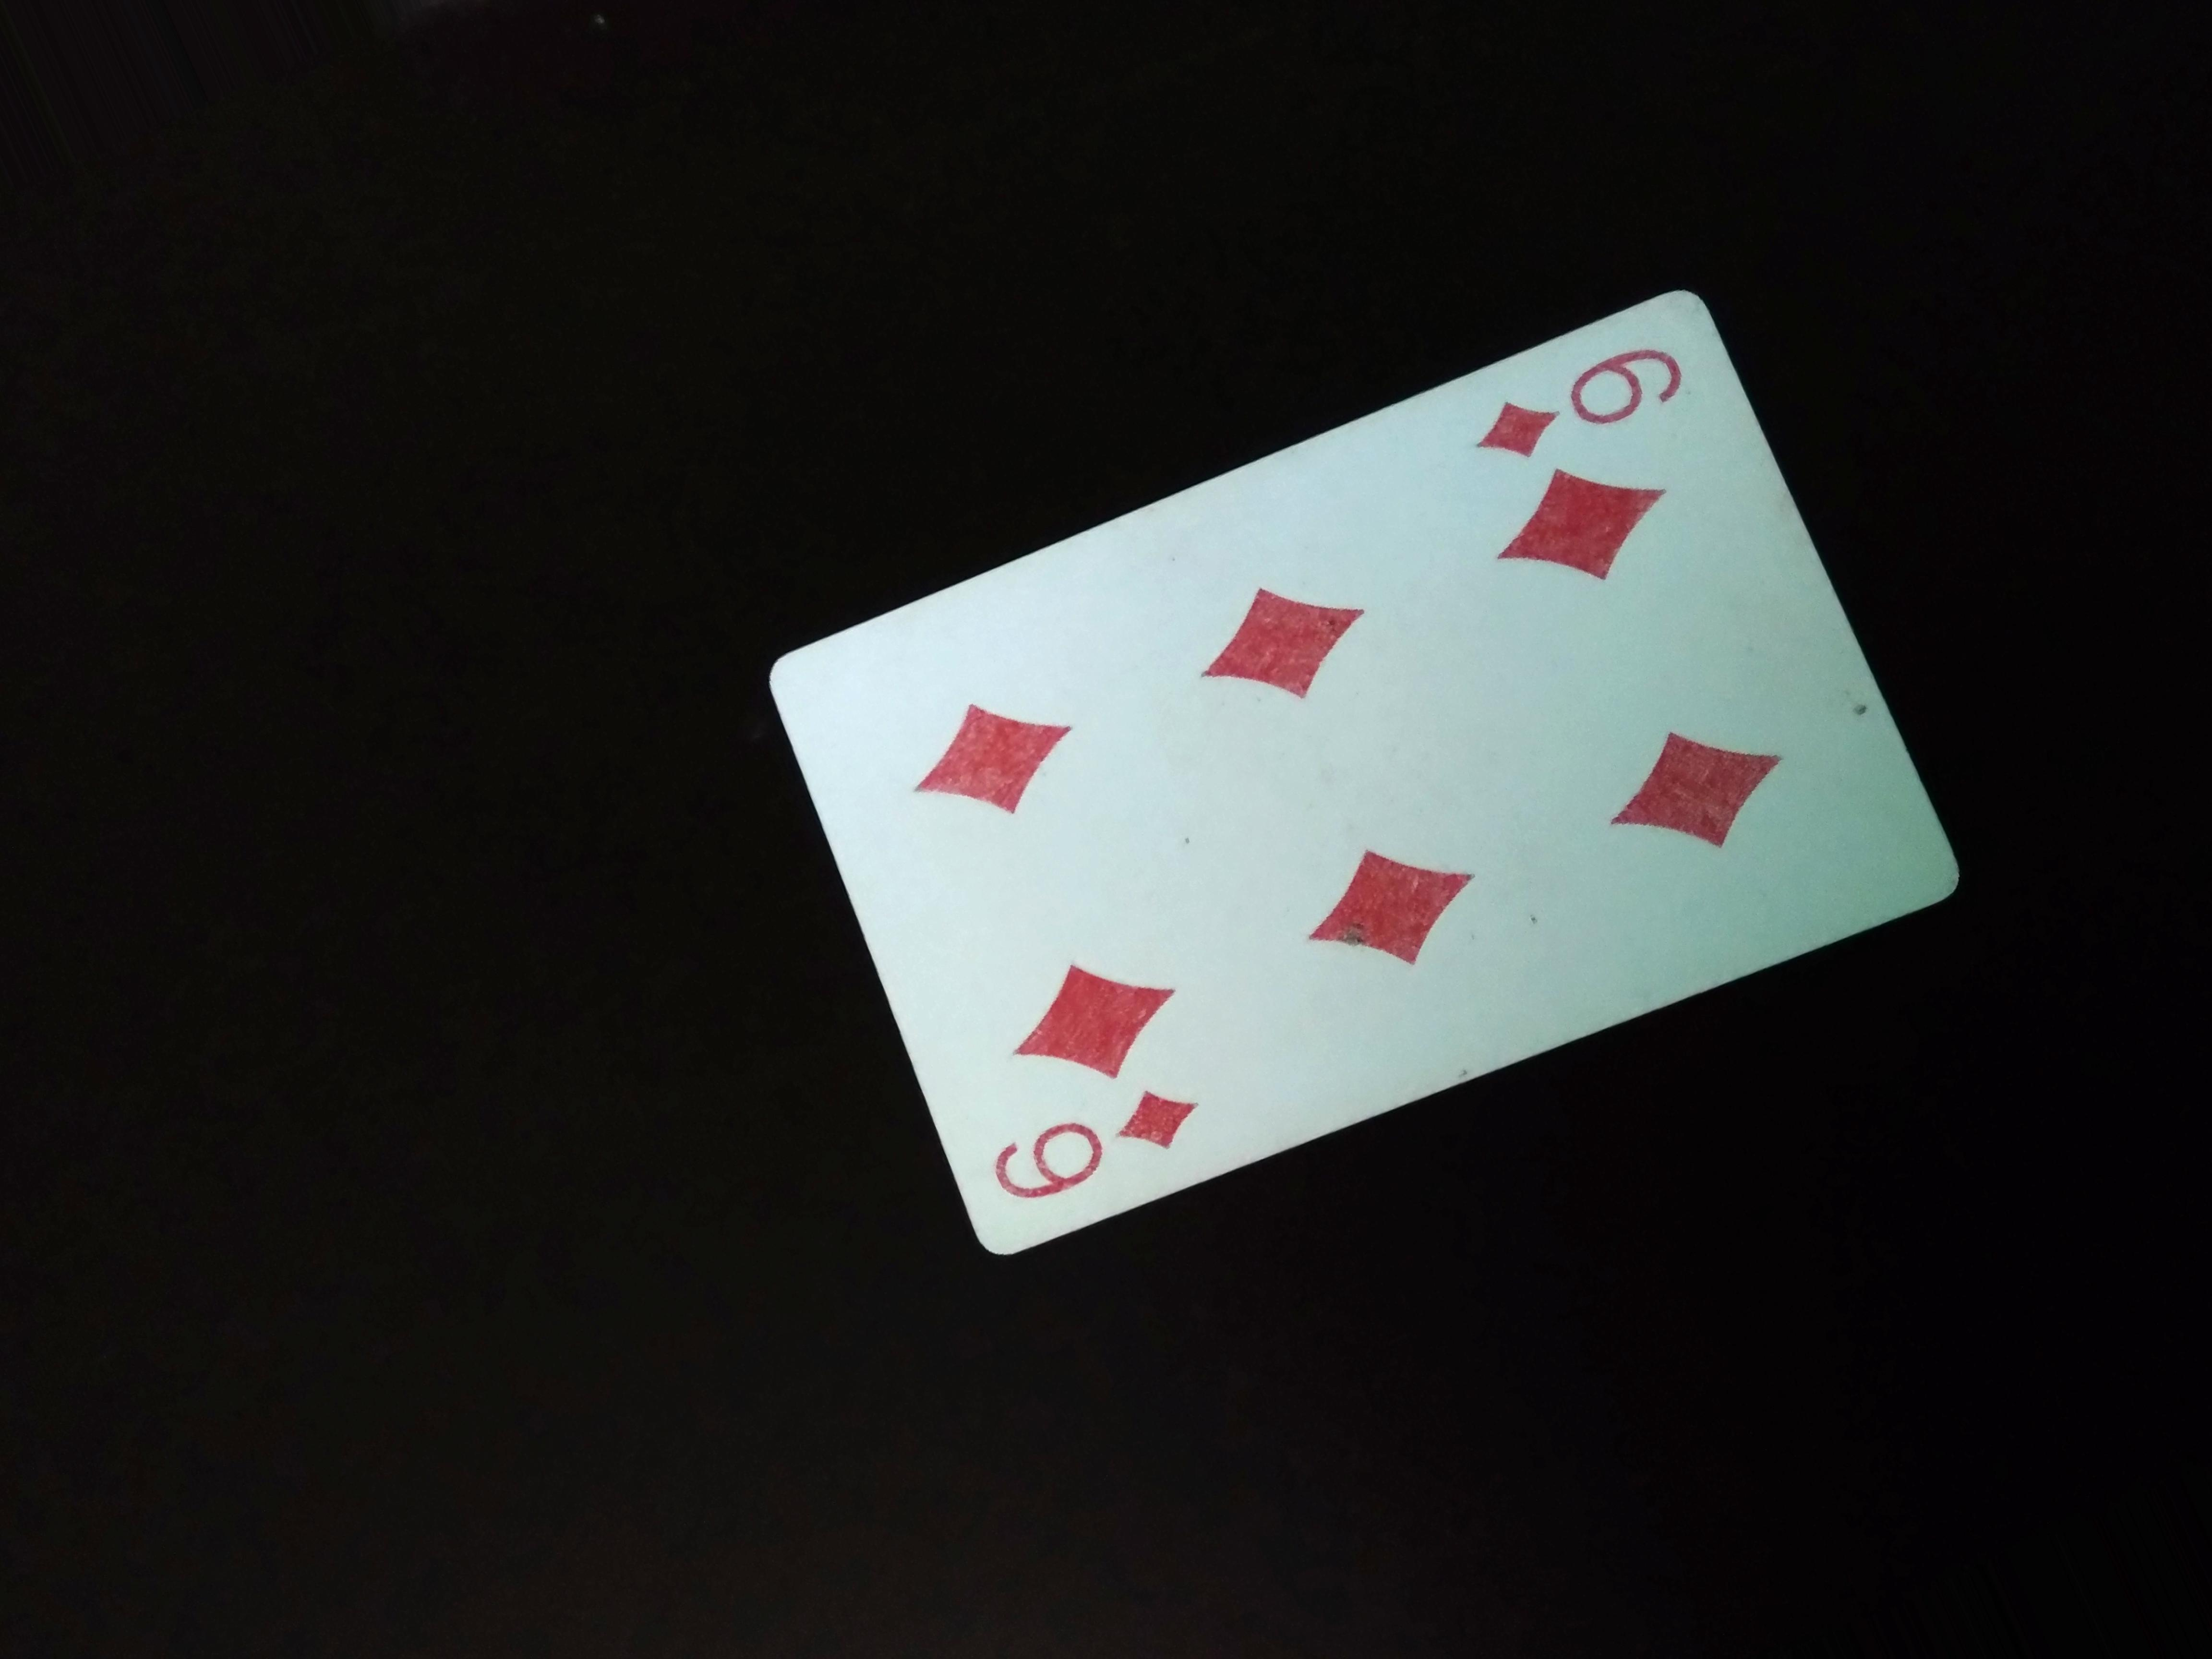6D: (979, 1075, 1202, 1213)
